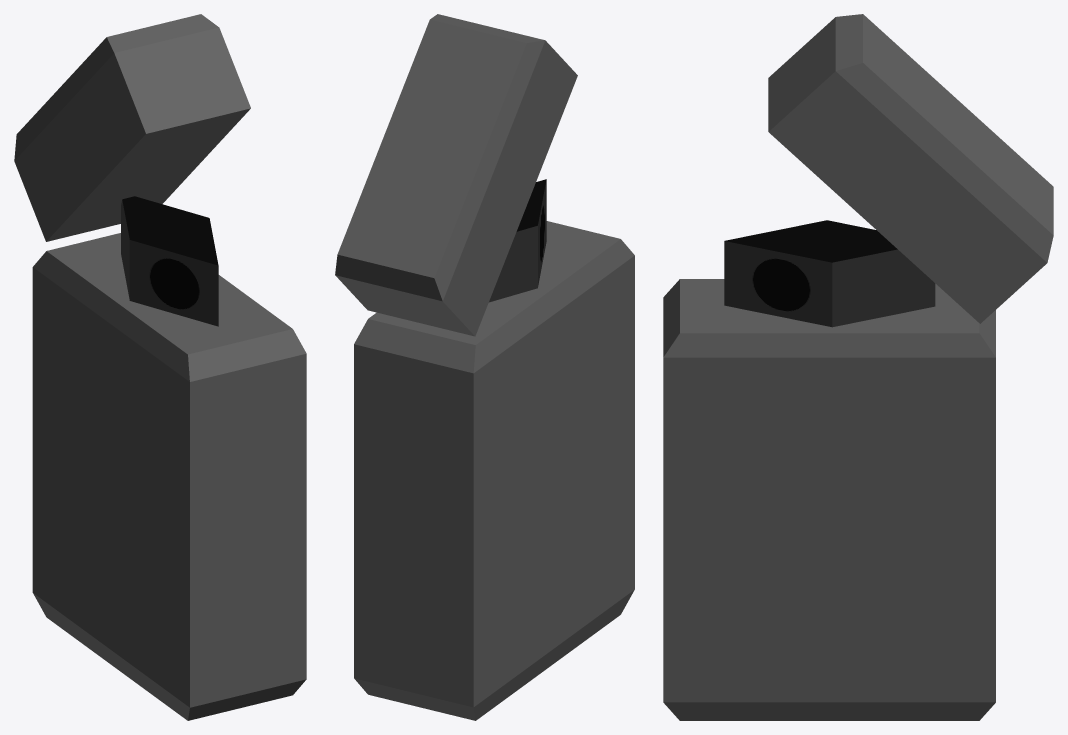
Rendered from lighter.fbx.
3 renders of one model, left to right at view 1: azimuth 30°, elevation 25°; view 2: azimuth 150°, elevation 25°; view 3: azimuth 270°, elevation 25°, orthographic. The views are drawn at different scales.
Visible parts, largest first — view 1: Cube; view 2: Cube; view 3: Cube.
Part boxes in pixels (x1,y1,x2,y2): Cube: [14, 14, 306, 720]; Cube: [335, 14, 634, 720]; Cube: [663, 14, 1053, 720].
Size of the model in its own units: 60 by 304 by 164.
